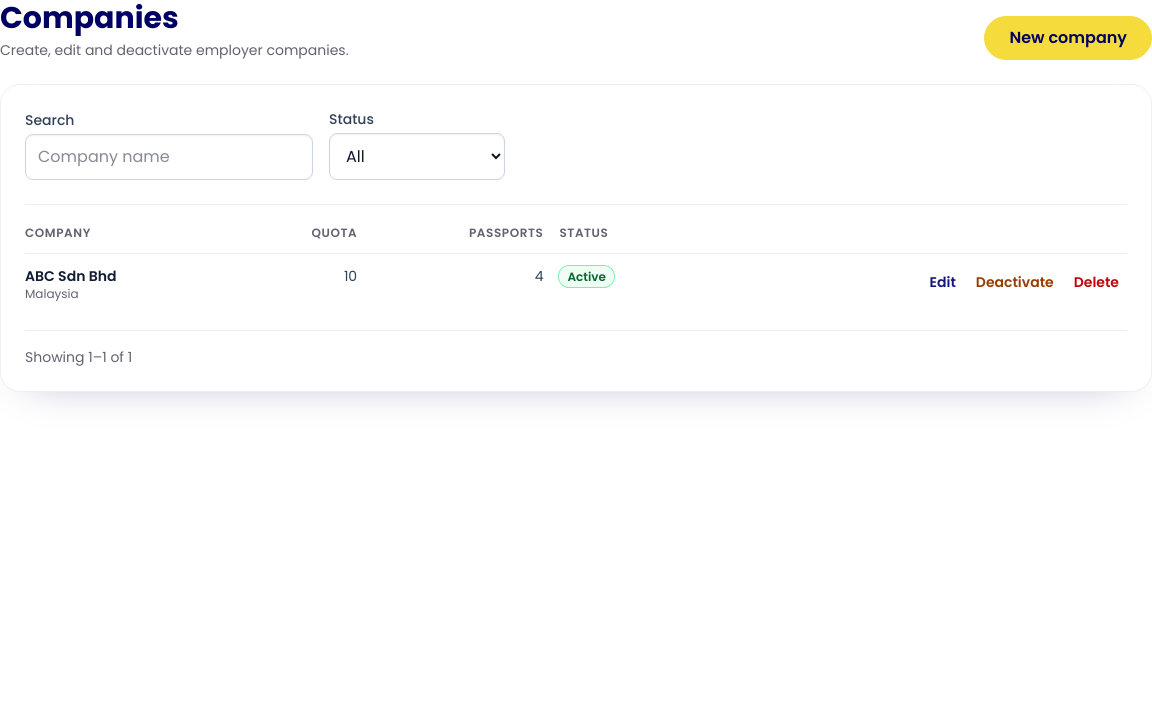
Companies (operations head) › requires a valid quota ()
Click the button "New company".
click(1068, 38)  # box [984,16,1151,60]
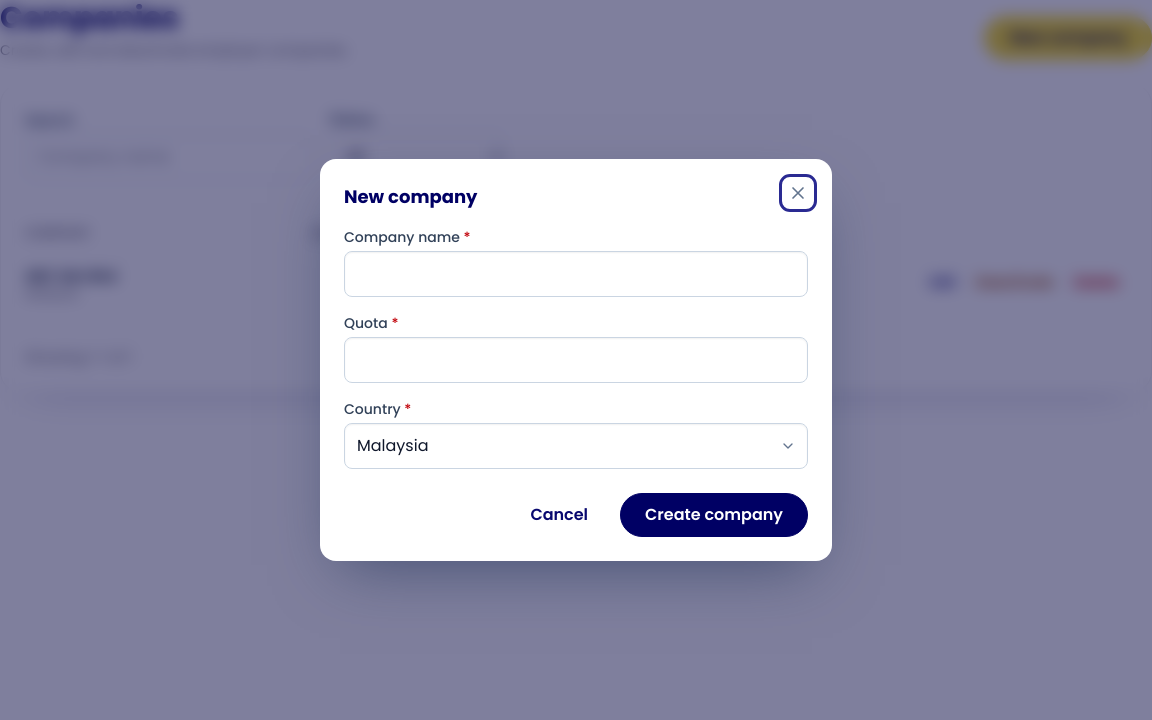
Type "New Co" into the field labelled "Company name *".
click(576, 274); type("New Co")  # box [344,251,808,297]
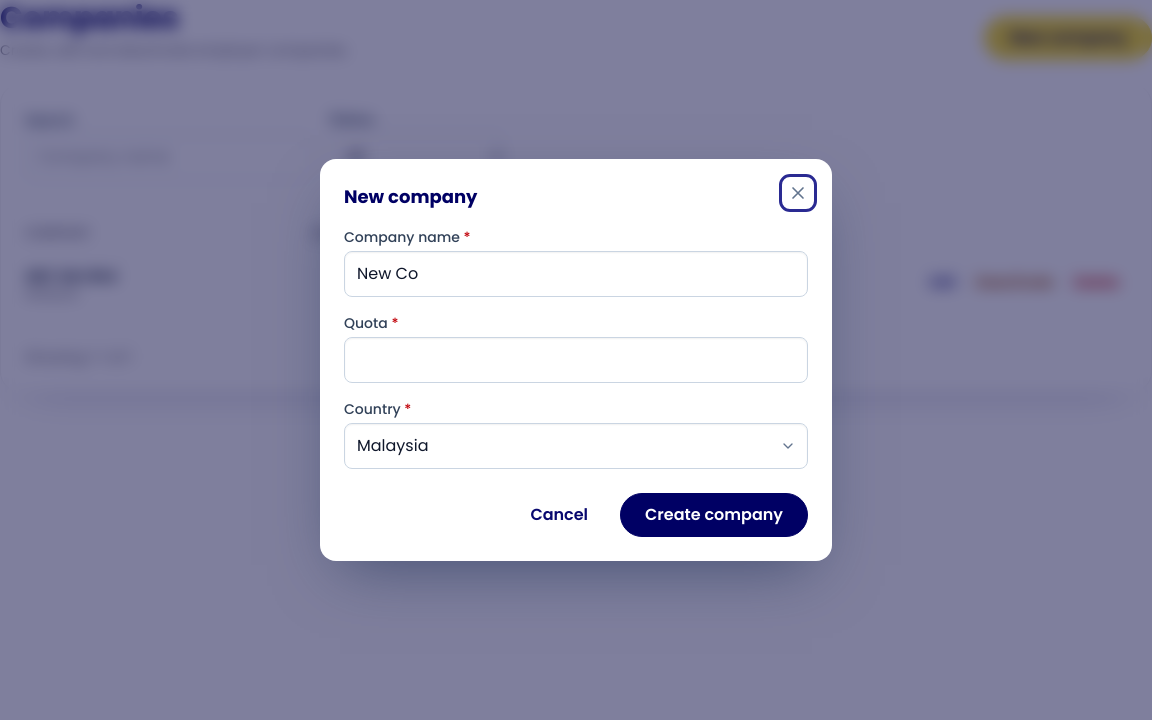
Submit the form, box [344,227,808,537]
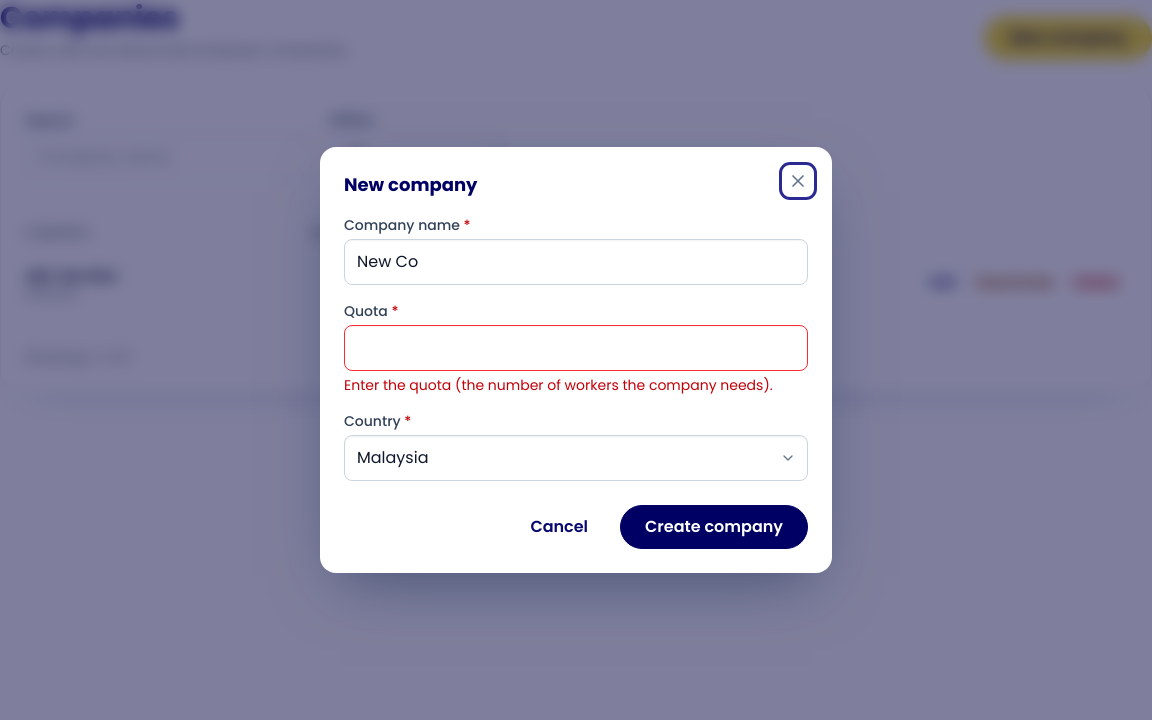
Check: the element that starts with "Quota" shows "Enter the quota (the number of workers the company needs).", box [344,375,773,395]
